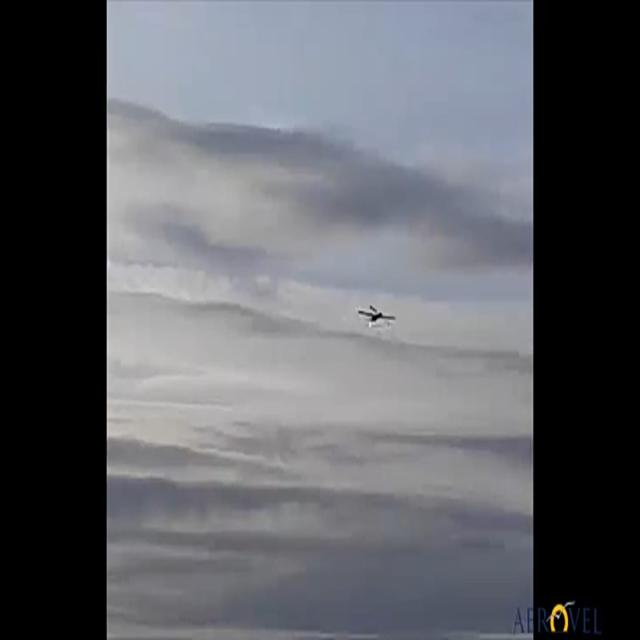iha: (357, 304, 396, 329)
